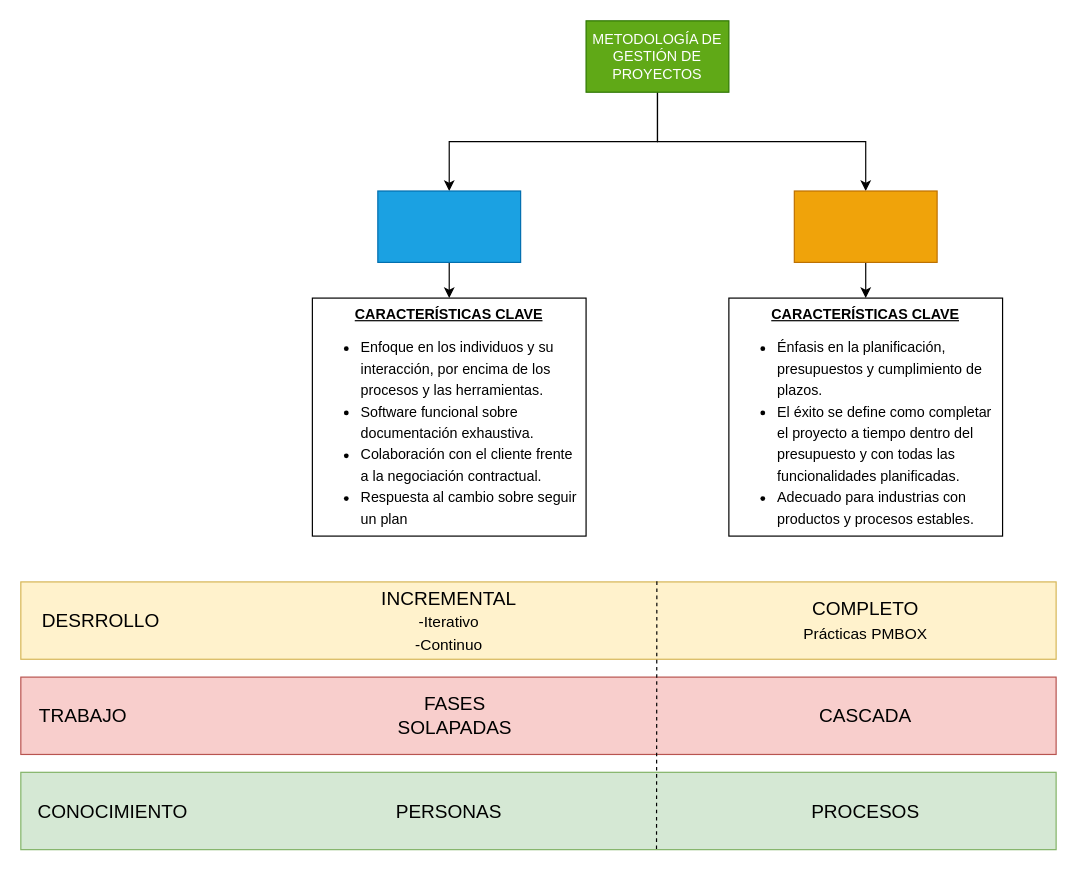
This 1077x871 diagram has some shape labels left out. The shapes that lost their labels are listed below. From the top down, each one's box as (x1, y1, x2, y2) in pixels, then its label:
(377, 190, 521, 262): GESTIÓN DE PROYECTOS ÁGIL
(793, 190, 937, 262): GESTIÓN DE PROYECTOS PREDICTIVA
